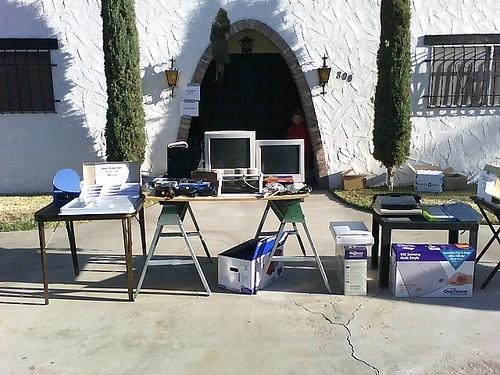tampered: (211, 9, 230, 84)
